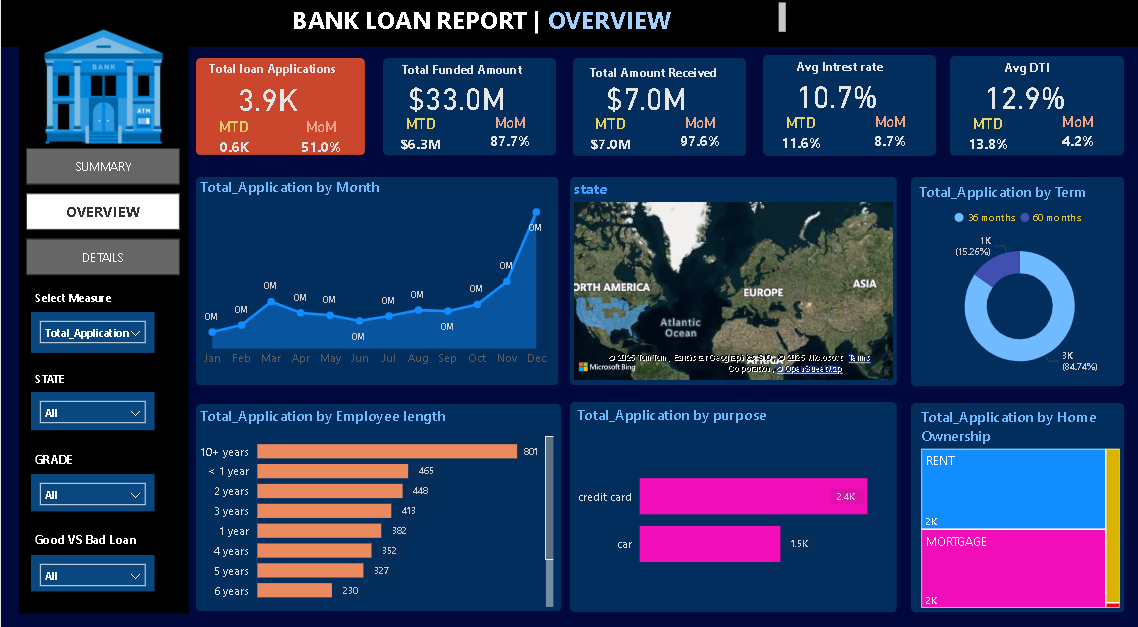

The dashboard page shown, as its layout file describes it:
{"tool":"powerbi","page":{"name":"OVERVIEW","canvas":[1280,720],"ordinal":1},"visuals":[{"type":"shape","box":[20,16.7,191.1,675.6],"z":0},{"type":"shape","box":[856.2,64.4,194.8,113.5],"z":0,"group":"g4"},{"type":"shape","box":[1067.3,65.4,195.9,112.4],"z":0,"group":"g5"},{"type":"shape","box":[429.6,67.7,195,109.9],"z":0,"group":"g1"},{"type":"shape","box":[642.9,67.8,194.7,110.2],"z":0,"group":"g3"},{"type":"card","fields":{"Values":["Table.Avg Inttrest rate"]},"box":[872.4,82.9,134.9,52.2],"z":1000,"group":"g4"},{"type":"card","fields":{"Values":["Table.Avg DTI"]},"box":[1083.6,83.8,135.6,51.7],"z":1000,"group":"g5"},{"type":"card","fields":{"Values":["Table.Total Funded Amount"]},"box":[445.8,85.6,135,50.5],"z":1000,"group":"g1"},{"type":"card","fields":{"Values":["Table.MTD_Total_amount_recevied"]},"box":[659.1,85.8,134.8,50.7],"z":1000,"group":"g3"},{"type":"shape","box":[218.9,201.1,407.8,234.4],"z":1000},{"type":"shape","box":[0,0,1280,55.3],"z":2000},{"type":"textbox","box":[863.4,63.3,164.1,33.7],"z":2000,"group":"g4"},{"type":"textbox","box":[1074.6,64.4,165,33.4],"z":2000,"group":"g5"},{"type":"textbox","box":[436.8,66.7,164.2,32.6],"z":2000,"group":"g1"},{"type":"textbox","box":[651.4,69.9,165.9,29.8],"z":2000,"group":"g3"},{"type":"textbox","box":[322.6,0,565.5,45],"z":3000},{"type":"shape","box":[218.9,68.3,190.2,109.5],"z":3000,"group":"g2"},{"type":"card","title":"MTD","fields":{"Values":["Table.MTD_avg_intrestrate"]},"box":[852.2,130.9,93.7,43.5],"z":3000,"group":"g4"},{"type":"card","title":"MTD","fields":{"Values":["Table.MTD AVG DTI"]},"box":[1063.3,131.4,94.2,43],"z":3000,"group":"g5"},{"type":"card","title":"MTD","fields":{"Values":["Table.Total_Funded_Amount"]},"box":[425.6,132.2,93.8,42.1],"z":3000,"group":"g1"},{"type":"card","title":"MTD","fields":{"Values":["Table.MTD_Total_amount_recevied"]},"box":[638.9,132.4,93.6,42.2],"z":3000,"group":"g3"},{"type":"group","id":"g1","title":"Group 1","box":[425.6,66.7,200,112.2],"z":4000},{"type":"card","fields":{"Values":["Table.Total_Application"]},"box":[233.2,87.2,131.9,50.5],"z":4000,"group":"g2"},{"type":"card","title":"MoM","fields":{"Values":["Table.Mom AVg int rate"]},"box":[951.1,129.6,97.4,47.1],"z":4000,"group":"g4"},{"type":"card","title":"MoM","fields":{"Values":["Table.Mom AVg DTI"]},"box":[1162.8,130,97.9,46.6],"z":4000,"group":"g5"},{"type":"card","title":"MoM","fields":{"Values":["Table.Mom Total funded Amount"]},"box":[524.6,130.8,97.5,45.6],"z":4000,"group":"g1"},{"type":"card","title":"MoM","fields":{"Values":["Table.Mom Total Amount recevied"]},"box":[737.8,131.1,97.4,45.7],"z":4000,"group":"g3"},{"type":"group","id":"g2","title":"Group 2","box":[218.9,65.6,190,113.3],"z":5000},{"type":"textbox","box":[224.4,65.6,161.8,28.1],"z":5000,"group":"g2"},{"type":"group","id":"g3","title":"Group 1","box":[638.9,67.8,200,110],"z":6000},{"type":"card","title":"MTD","fields":{"Values":["Table.MTD Loan_ application"]},"box":[219,134.8,85.5,43.3],"z":6000,"group":"g2"},{"type":"group","id":"g4","title":"Group 1","box":[852.2,63.3,198.9,114.4],"z":7000},{"type":"card","title":"MoM","fields":{"Values":["Table.MoM loan Application"]},"box":[314.3,134.8,90.4,43.3],"z":7000,"group":"g2"},{"type":"group","id":"g5","title":"Group 1","box":[1063.3,64.4,200,113.3],"z":8000},{"type":"slicer","fields":{"Values":["Bank_loan_data.address_state"]},"box":[33.3,443.3,138.9,43.3],"z":9000},{"type":"textbox","box":[33.3,414.4,81.1,28.9],"z":10000},{"type":"slicer","fields":{"Values":["Bank_loan_data.grade"]},"box":[33.3,535.6,138.9,42.2],"z":11000},{"type":"textbox","box":[33.3,505.6,74.4,30],"z":12000},{"type":"slicer","fields":{"Values":["Bank_loan_data.Good Loan vs Bad Loan"]},"box":[33.3,626.7,138.9,41.1],"z":13000},{"type":"areaChart","fields":{"Y":["MEASURE.Total_Application"],"Category":["Data_table.Month"]},"box":[218.9,201.1,401.1,221.1],"z":14000},{"type":"slicer","fields":{"Values":["select measure.select measure"]},"box":[33.3,353.3,138.9,45.6],"z":15000},{"type":"shape","box":[640,201.1,367.8,234.4],"z":16000},{"type":"textbox","box":[33.3,323.3,124.4,28.9],"z":17000},{"type":"filledMap","fields":{"Category":["Bank_loan_data.address_state"]},"box":[640,203.3,367.8,231.1],"z":18000},{"type":"shape","box":[1023.3,201.1,240,235.6],"z":19000},{"type":"donutChart","fields":{"Y":["MEASURE.Total_Application"],"Category":["Bank_loan_data.term"]},"box":[1027.8,206.7,235.6,231.1],"z":20000},{"type":"shape","box":[218.9,456.7,411.1,233.3],"z":21000},{"type":"barChart","fields":{"Y":["MEASURE.Total_Application"],"Category":["Bank_loan_data.emp_length"]},"box":[218.9,458.9,406.7,231.1],"z":22000},{"type":"shape","box":[640,454.4,367.8,236.7],"z":23000},{"type":"barChart","fields":{"Y":["MEASURE.Total_Application"],"Category":["Bank_loan_data.purpose"]},"box":[643.3,457.8,360,232.2],"z":24000},{"type":"shape","box":[1023.3,455.6,240,235.6],"z":25000},{"type":"treemap","fields":{"Values":["MEASURE.Total_Application"],"Group":["Bank_loan_data.home_ownership"]},"box":[1030,460,233.3,231.1],"z":26000},{"type":"textbox","box":[33.3,595.6,140,31.1],"z":27000},{"type":"pageNavigator","box":[27.8,168.9,173.3,143.3],"z":28000},{"type":"image","box":[34.9,7.9,160.9,160.9],"z":28001}]}

Visuals, with their boxes in screenshot pixels (x1, y1, x2, y2), scaled from the page's 1280x720 canvas onto the 1138x627 screenshot:
shape: <region>18, 15, 188, 603</region>
shape: <region>761, 56, 934, 155</region>
shape: <region>949, 57, 1123, 155</region>
shape: <region>382, 59, 555, 155</region>
shape: <region>572, 59, 745, 155</region>
card - Table.Avg Inttrest rate: <region>776, 72, 896, 118</region>
card - Table.Avg DTI: <region>963, 73, 1084, 118</region>
card - Table.Total Funded Amount: <region>396, 75, 516, 119</region>
card - Table.MTD_Total_amount_recevied: <region>586, 75, 706, 119</region>
shape: <region>195, 175, 557, 379</region>
shape: <region>0, 0, 1137, 48</region>
textbox: <region>768, 55, 914, 84</region>
textbox: <region>955, 56, 1102, 85</region>
textbox: <region>388, 58, 534, 86</region>
textbox: <region>579, 61, 727, 87</region>
textbox: <region>287, 0, 790, 39</region>
shape: <region>195, 59, 364, 155</region>
"MTD" card: <region>758, 114, 841, 152</region>
"MTD" card: <region>945, 114, 1029, 152</region>
"MTD" card: <region>378, 115, 462, 152</region>
"MTD" card: <region>568, 115, 651, 152</region>
"Group 1" group: <region>378, 58, 556, 156</region>
card - Table.Total_Application: <region>207, 76, 325, 120</region>
"MoM" card: <region>846, 113, 932, 154</region>
"MoM" card: <region>1034, 113, 1121, 154</region>
"MoM" card: <region>466, 114, 553, 154</region>
"MoM" card: <region>656, 114, 743, 154</region>
"Group 2" group: <region>195, 57, 364, 156</region>
textbox: <region>200, 57, 343, 82</region>
"Group 1" group: <region>568, 59, 746, 155</region>
"MTD" card: <region>195, 117, 271, 155</region>
"Group 1" group: <region>758, 55, 934, 155</region>
"MoM" card: <region>279, 117, 360, 155</region>
"Group 1" group: <region>945, 56, 1123, 155</region>
slicer - Bank_loan_data.address_state: <region>30, 386, 153, 424</region>
textbox: <region>30, 361, 102, 386</region>
slicer - Bank_loan_data.grade: <region>30, 466, 153, 503</region>
textbox: <region>30, 440, 96, 466</region>
slicer - Bank_loan_data.Good Loan vs Bad Loan: <region>30, 546, 153, 582</region>
areaChart - MEASURE.Total_Application x Data_table.Month: <region>195, 175, 551, 368</region>
slicer - select measure.select measure: <region>30, 308, 153, 347</region>
shape: <region>569, 175, 896, 379</region>
textbox: <region>30, 282, 140, 307</region>
filledMap - Bank_loan_data.address_state: <region>569, 177, 896, 378</region>
shape: <region>910, 175, 1123, 380</region>
donutChart - MEASURE.Total_Application x Bank_loan_data.term: <region>914, 180, 1123, 381</region>
shape: <region>195, 398, 560, 601</region>
barChart - MEASURE.Total_Application x Bank_loan_data.emp_length: <region>195, 400, 556, 601</region>
shape: <region>569, 396, 896, 602</region>
barChart - MEASURE.Total_Application x Bank_loan_data.purpose: <region>572, 399, 892, 601</region>
shape: <region>910, 397, 1123, 602</region>
treemap - MEASURE.Total_Application x Bank_loan_data.home_ownership: <region>916, 401, 1123, 602</region>
textbox: <region>30, 519, 154, 546</region>
pageNavigator: <region>25, 147, 179, 272</region>
image: <region>31, 7, 174, 147</region>
